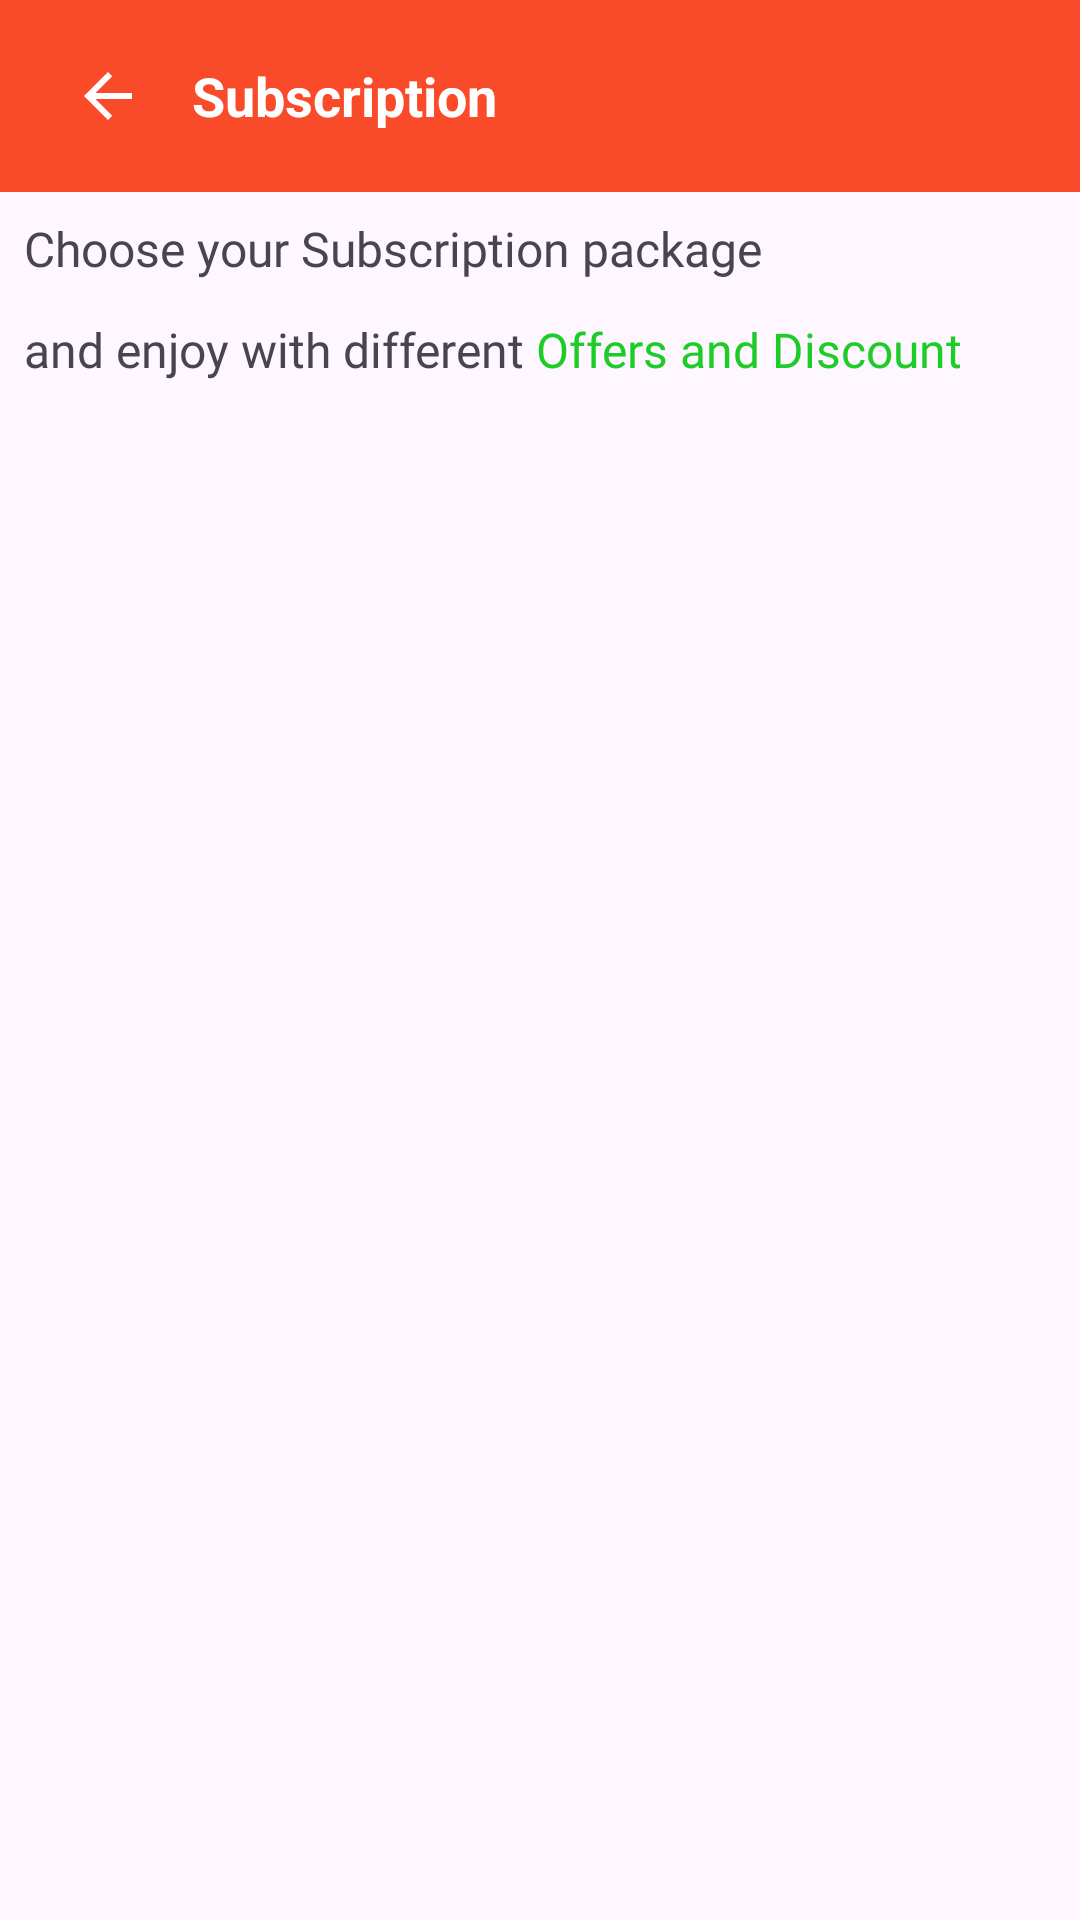

Icons on this 1080x1920 Android screen, each with its box as (x1, y1, x2, y2):
arrow back: (84, 72, 132, 120)
